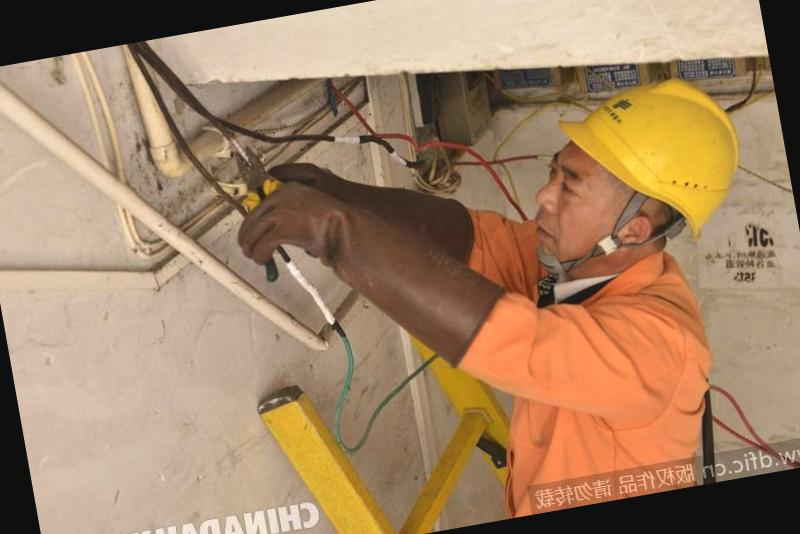helmet: (540, 64, 754, 254)
person: (374, 63, 791, 500)
